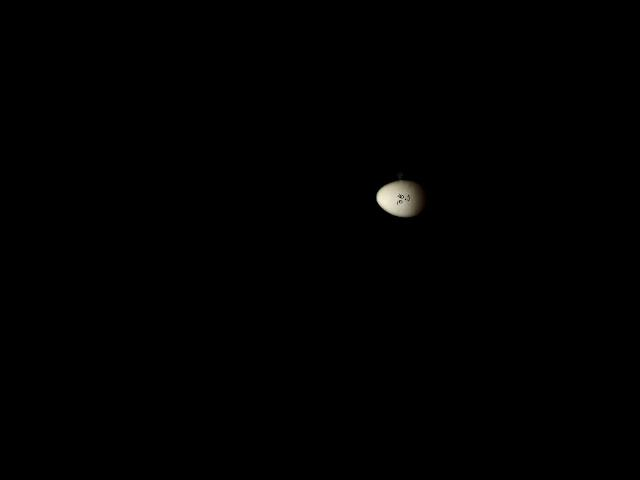egg: (376, 180, 425, 217)
